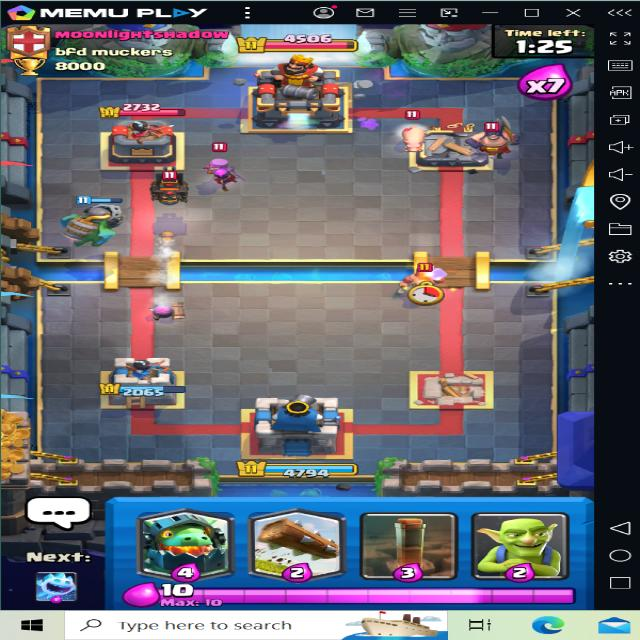executioner: (465, 115, 522, 156)
lava-hound: (123, 167, 216, 205)
lumberjack: (395, 258, 449, 302)
mother-witch: (201, 140, 263, 192)
pig: (393, 107, 431, 160)
